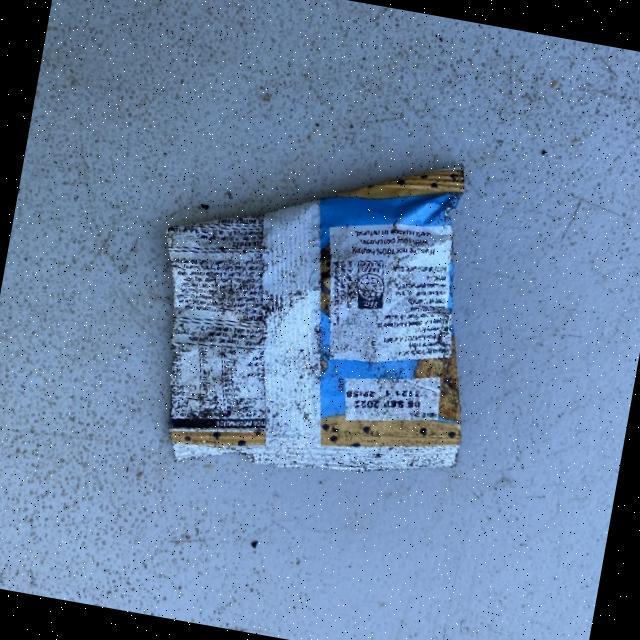plastic: (124, 120, 507, 508)
